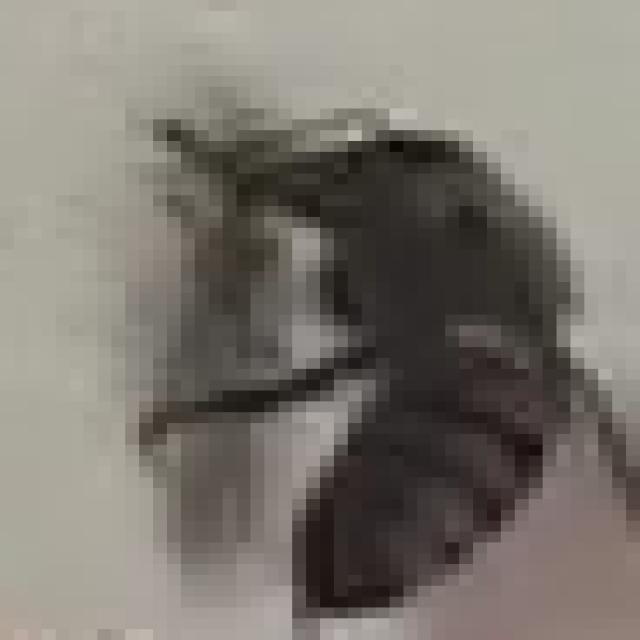honeybee: (165, 109, 632, 612)
